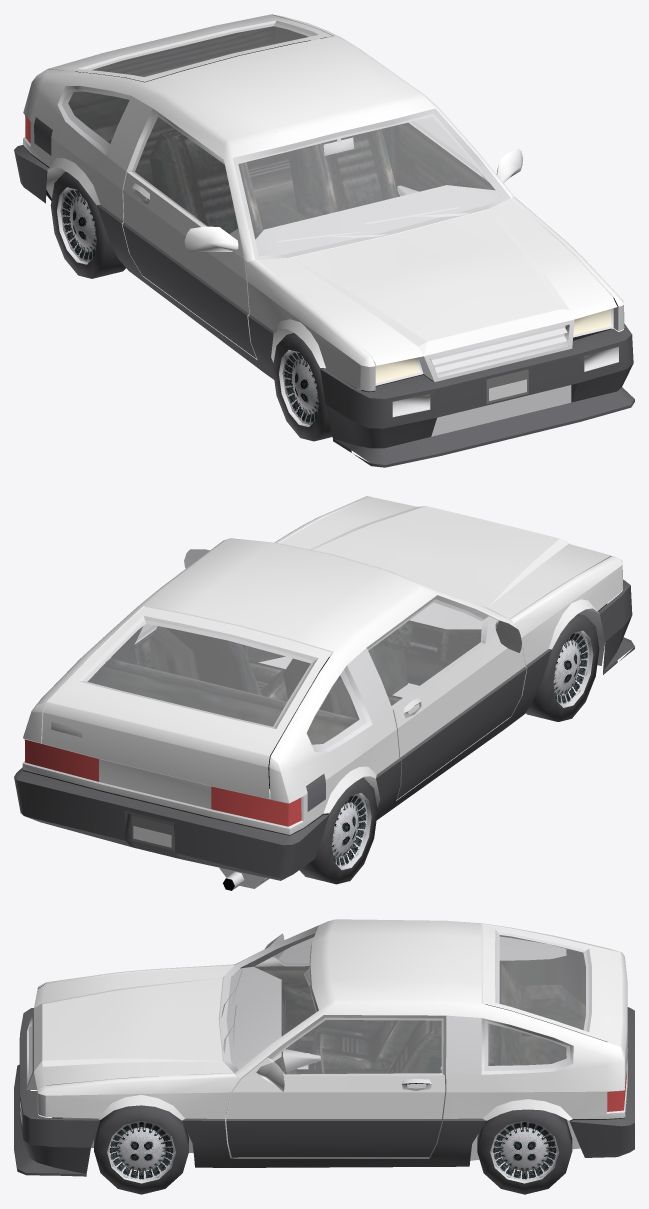
Rendered from blistac.glb.
The picture shows the model from 3 angles, top to bottom: view 1: azimuth 30°, elevation 25°; view 2: azimuth 150°, elevation 25°; view 3: azimuth 270°, elevation 25°; orthographic projection. The views are drawn at different scales.
Parts seen in each view (by area): view 1: body, door_R, door_L, wheel_BR, wheel_FR; view 2: body, door_R, wheel_FR, wheel_BR, door_L; view 3: body, door_L, wheel_FL, wheel_BL, door_R.
Part boxes in pixels (<box>): body: <box>14,14,634,467</box>; door_R: <box>122,113,256,358</box>; door_L: <box>391,117,522,196</box>; wheel_BR: <box>50,172,125,278</box>; wheel_FR: <box>273,333,357,441</box>; body: <box>14,496,634,890</box>; door_R: <box>368,599,526,799</box>; wheel_FR: <box>524,614,599,721</box>; wheel_BR: <box>299,777,377,884</box>; door_L: <box>134,549,248,669</box>; body: <box>14,919,634,1176</box>; door_L: <box>226,1017,445,1157</box>; wheel_FL: <box>94,1105,188,1194</box>; wheel_BL: <box>477,1109,572,1194</box>; door_R: <box>254,933,383,1052</box>.
Bounding box in the file's own units: 2.49 × 1.48 × 4.59.
Materials: 5 (2 with a texture image).
